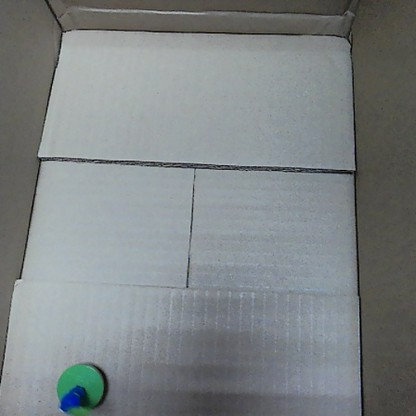leafairy: (52, 360, 109, 414)
